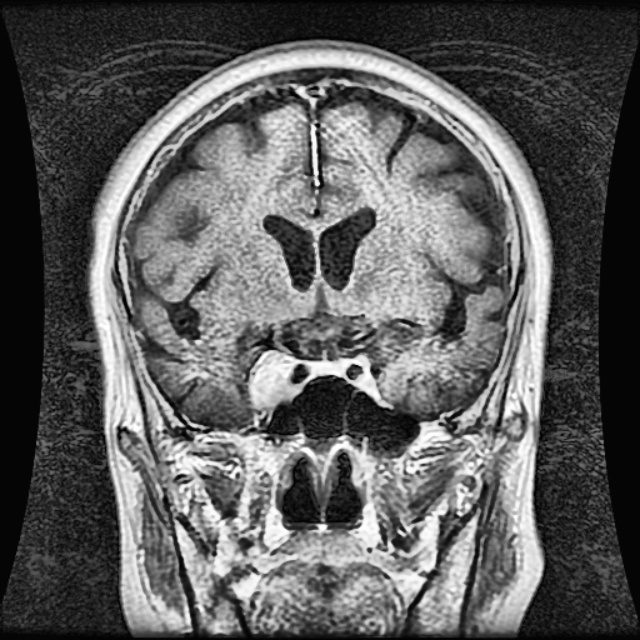Glioma: (247, 349, 293, 405)
